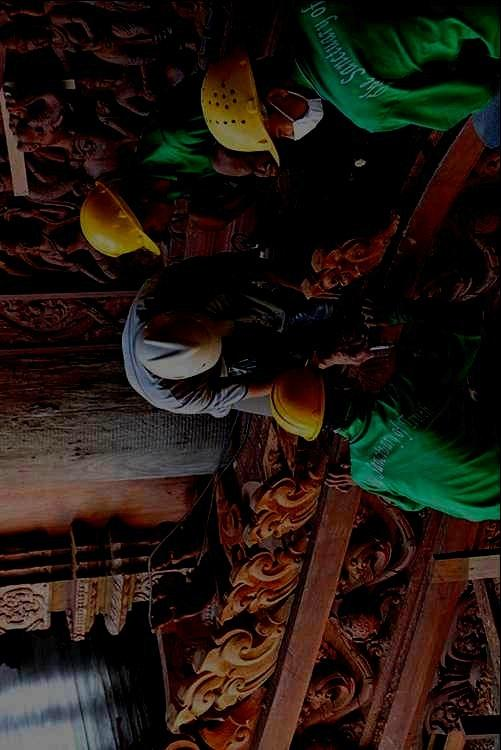helmet: (199, 49, 324, 168), (79, 176, 173, 258), (134, 310, 222, 380), (268, 364, 347, 441)
